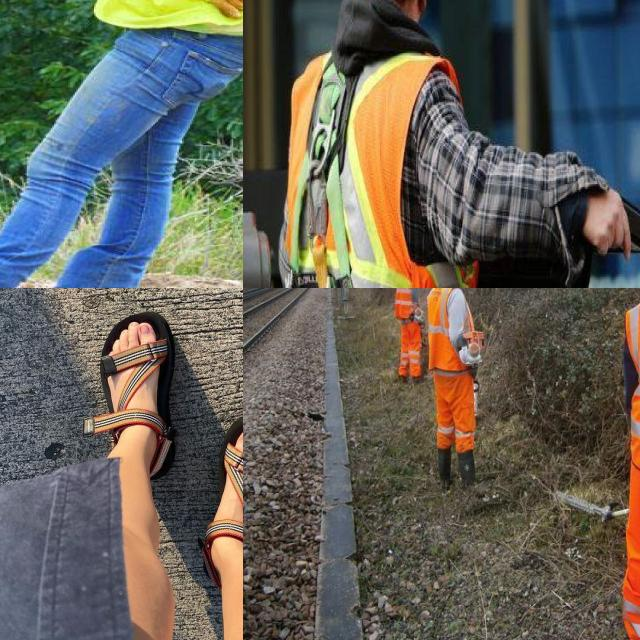Sandals: (88, 304, 179, 472), (208, 408, 243, 580)
hand_glove: (172, 0, 243, 25)
hand_noglove: (562, 146, 628, 260)
person: (280, 0, 490, 288), (107, 0, 243, 288), (426, 288, 485, 486), (391, 288, 426, 387)
shoes: (431, 442, 453, 483), (460, 448, 476, 486)
vest: (284, 44, 479, 288), (425, 288, 474, 372), (393, 288, 421, 322)
